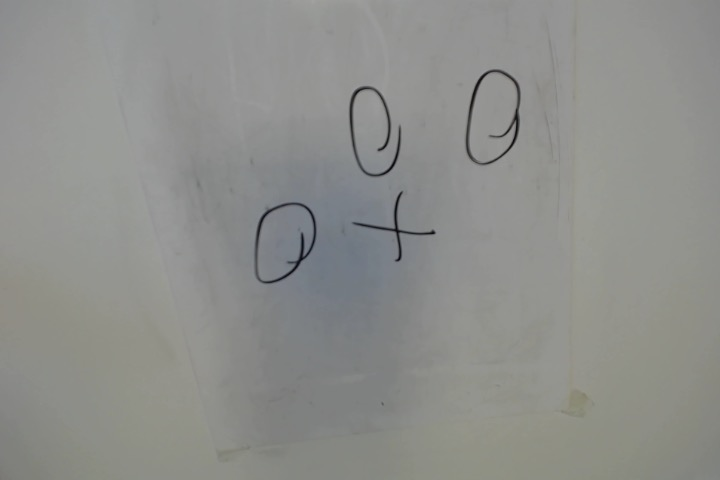0: (457, 62, 521, 169), (251, 199, 318, 285), (347, 84, 405, 182)
x: (342, 196, 436, 268)
